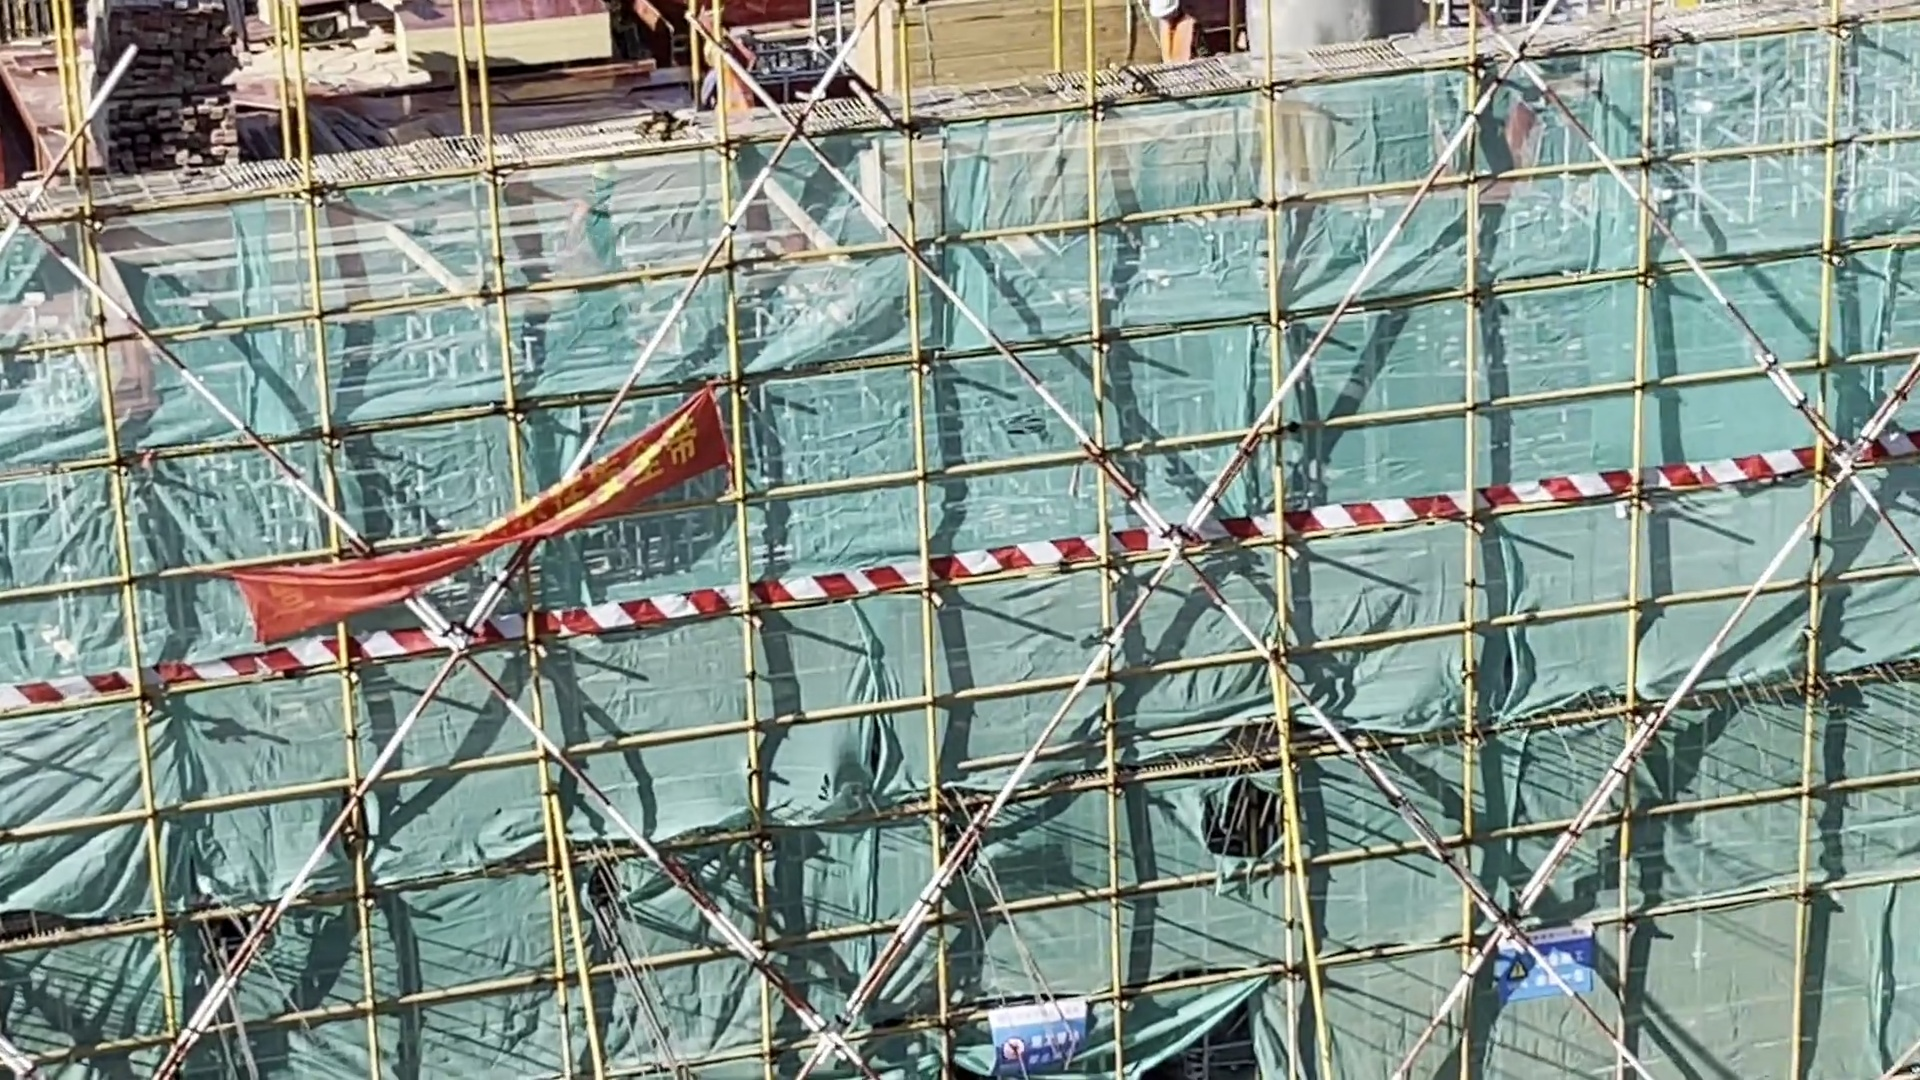helmet: (1143, 1, 1182, 22), (700, 37, 726, 65)
person: (1130, 1, 1243, 72), (680, 37, 769, 120)
slogan: (185, 332, 757, 672), (1469, 882, 1617, 1017), (974, 968, 1094, 1075)
vest: (1156, 13, 1208, 67)
wood: (83, 1, 267, 180)
